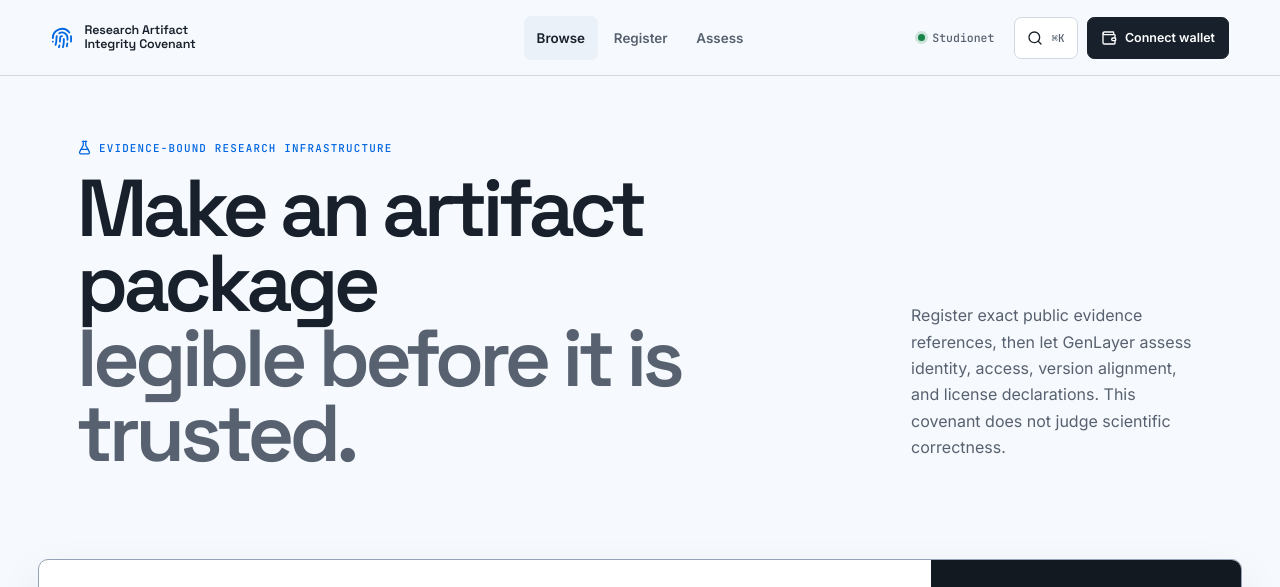
Test case: register workflow: initial proposal creation vs successor proposal › shows initial activation journey when previous profile ID is empty
The width and height of the screenshot is (1280, 587).
Step 1. Click the button "register" → point(641, 38), box [601,16,680,60]
(page scrolled)
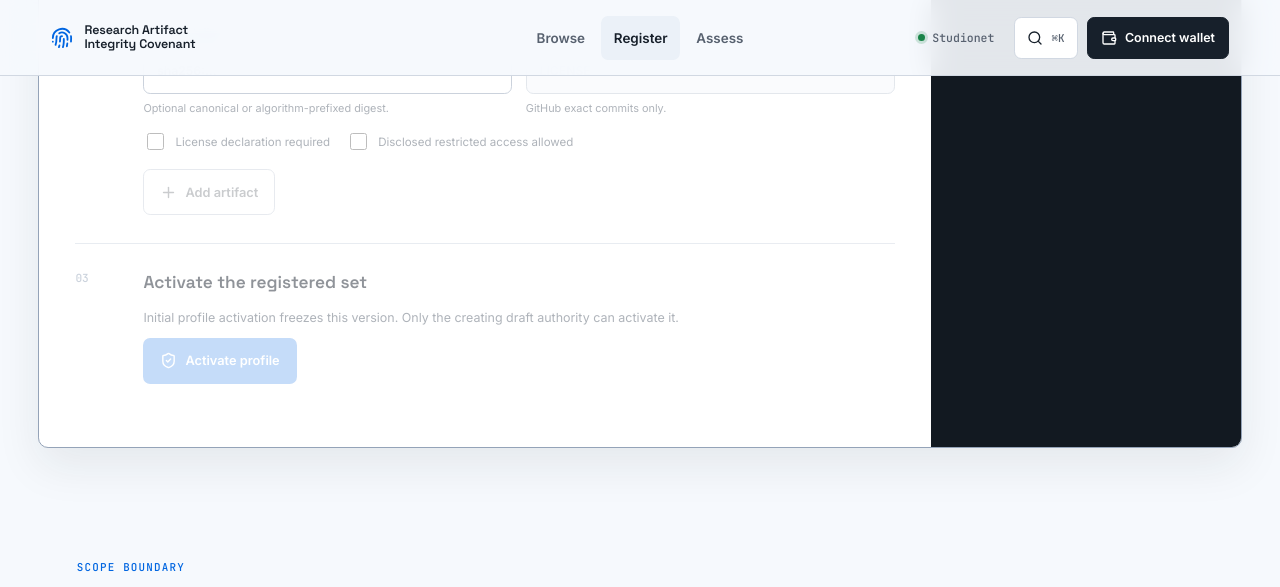
Result: the heading "Activate the registered set" is shown at [143,271,367,293]
Result: the text "Initial profile activation freezes this version" is shown at [143,310,679,325]
Result: the button "Activate profile" is shown at [143,338,297,384]
